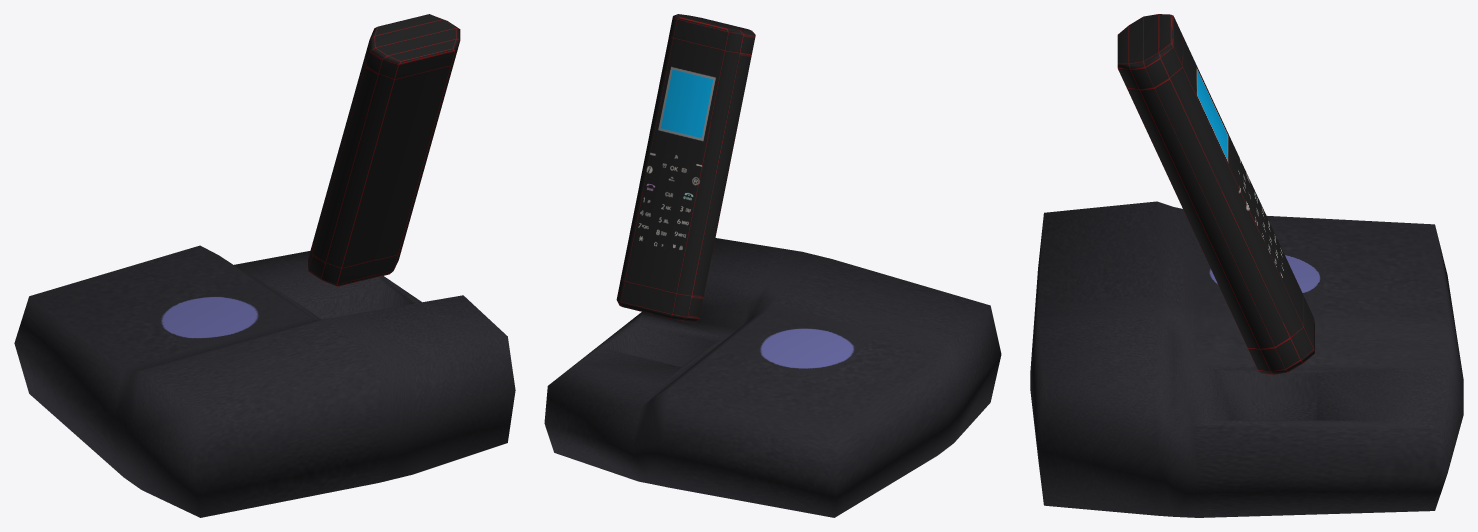
File: phone.fbx
3 views of the same model, side by side, from view 1: azimuth 30°, elevation 25°; view 2: azimuth 150°, elevation 25°; view 3: azimuth 270°, elevation 25° (orthographic). The views are drawn at different scales.
Parts seen in each view (by area): view 1: phonebase, phone; view 2: phonebase, phone; view 3: phonebase, phone.
Boxes of the visible parts, x1,y1,x2,y2 form: phonebase: (14, 245, 515, 517); phone: (308, 14, 460, 286); phonebase: (544, 238, 1001, 517); phone: (616, 14, 755, 322); phonebase: (1030, 201, 1463, 517); phone: (1117, 14, 1314, 374).
Size of the model in its own units: 4.05 by 4.63 by 3.91.
